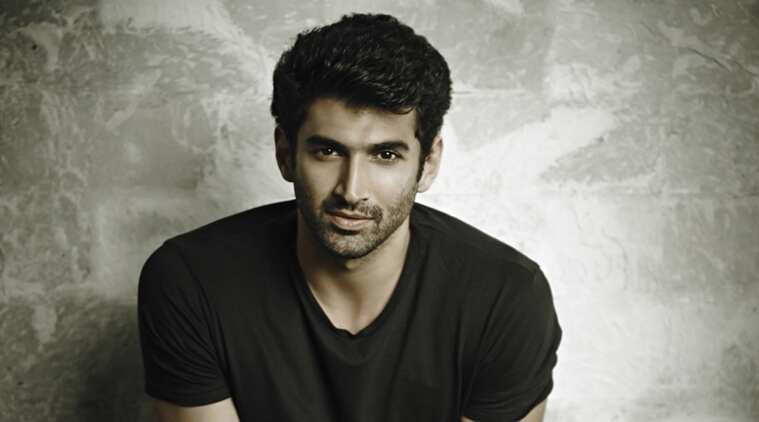NoMask: (299, 132, 415, 255)
